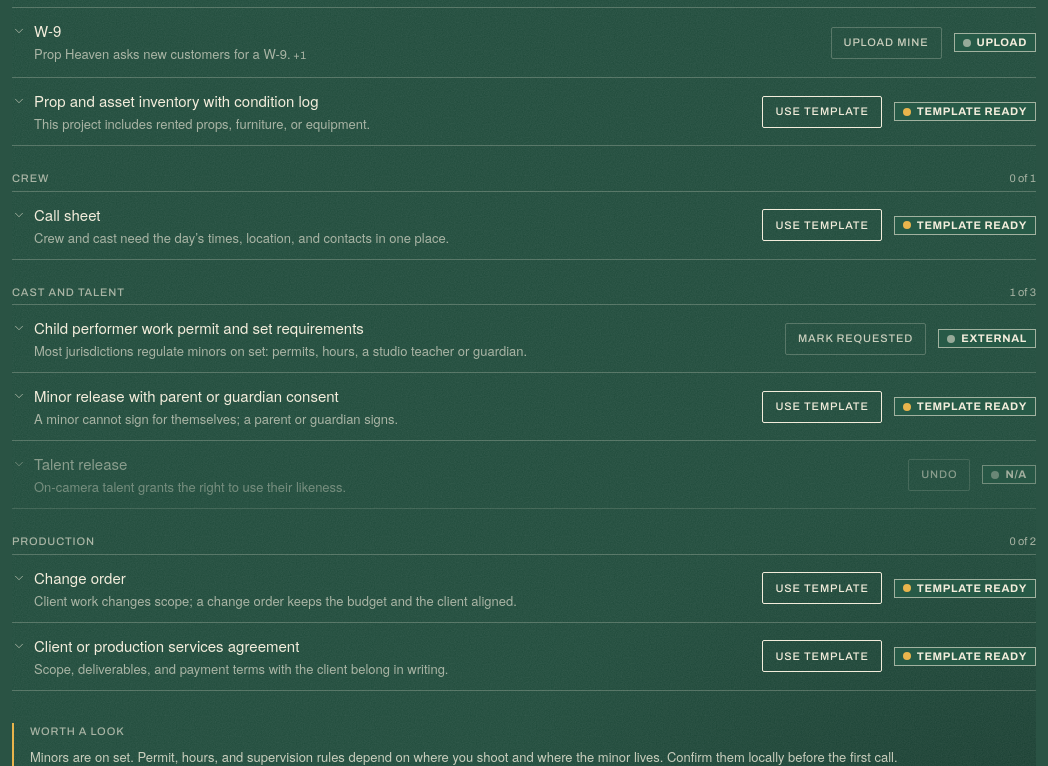
Test case: ChecklistSection › names the blanks after a template fill
(page scrolled)
What coordinates should you click on to do the following:
click the 4th button "Use template"
I would click on:
 (822, 588)
Its box is 762,572 -> 882,604.
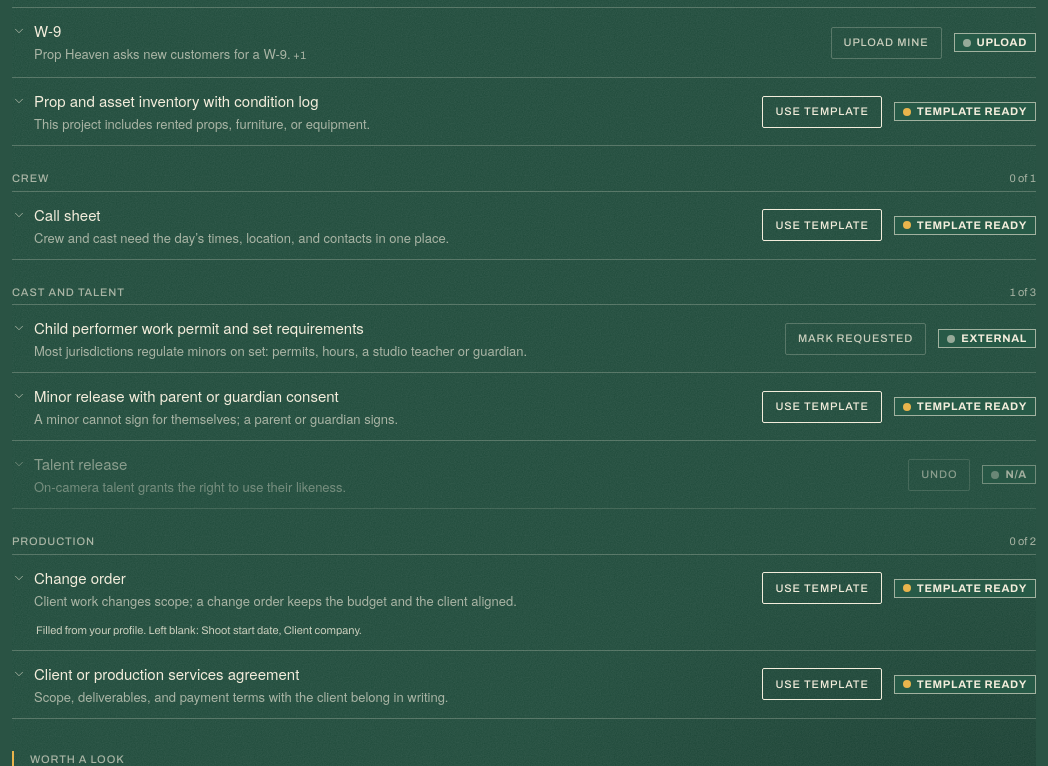
expect the text "Filled from your profile. Left blank: Shoot start date, Client company." is shown: met, box 36,624 -> 362,636
